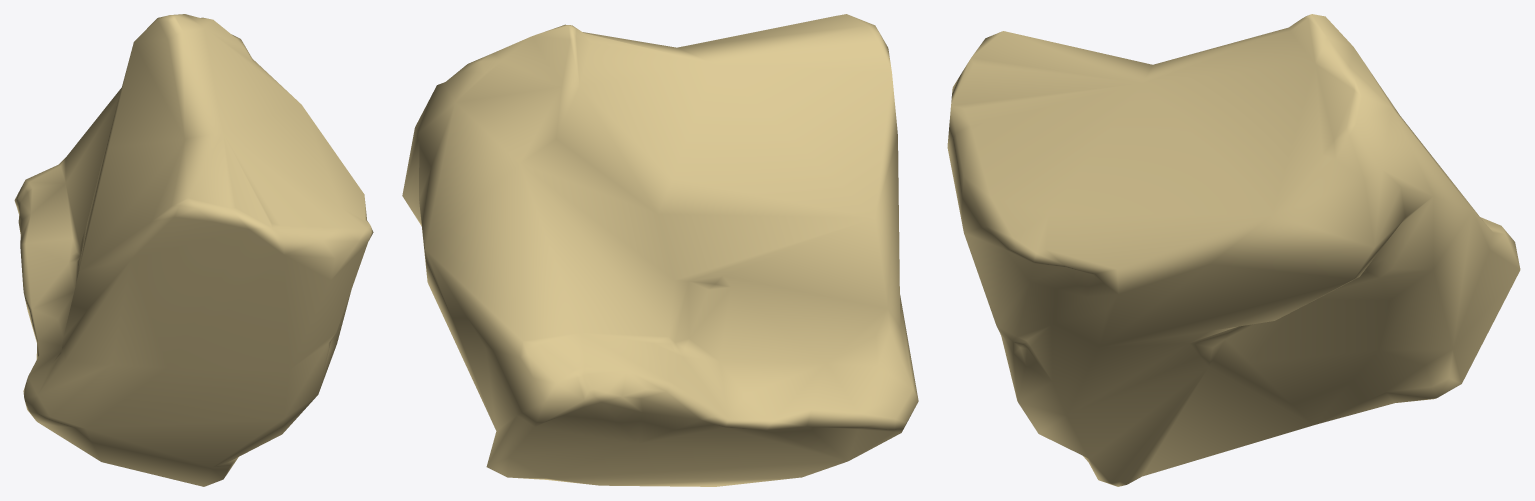
3 renders of one model, left to right at view 1: azimuth 30°, elevation 25°; view 2: azimuth 150°, elevation 25°; view 3: azimuth 270°, elevation 25°, orthographic. The views are drawn at different scales.
Parts seen in each view (by area): view 1: 右侧中间楔骨; view 2: 右侧中间楔骨; view 3: 右侧中间楔骨.
Part boxes in pixels (x1,y1,x2,y2): 右侧中间楔骨: [14, 14, 373, 486]; 右侧中间楔骨: [402, 14, 918, 486]; 右侧中间楔骨: [947, 14, 1520, 486].
Size of the model in its own units: 0.0288 by 0.0338 by 0.0354.
